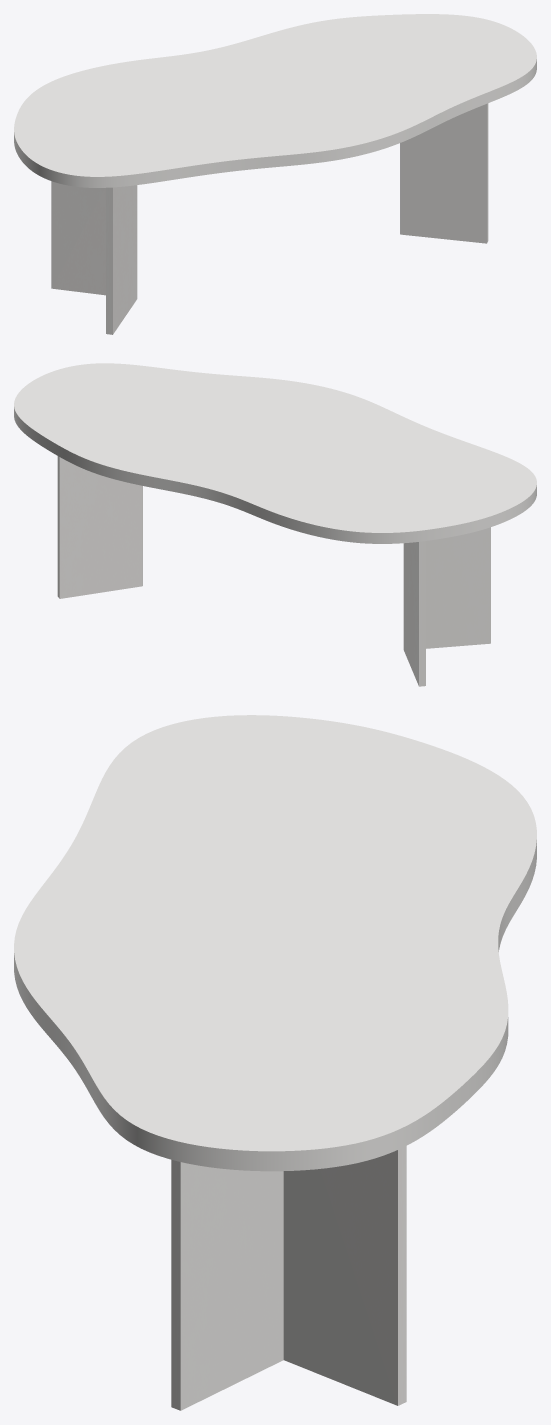
The model's file is purewhite_toplast_standard_valleyv.glb.
3 renders of one model, top to bottom at view 1: azimuth 30°, elevation 25°; view 2: azimuth 150°, elevation 25°; view 3: azimuth 270°, elevation 25°, orthographic. The views are drawn at different scales.
Visible parts, largest first — view 1: standard_toplast, valleyv; view 2: standard_toplast, valleyv; view 3: standard_toplast, valleyv.
Part boxes in pixels (box(x1,y1,x2,y2)): standard_toplast: box(14, 14, 536, 187); valleyv: box(51, 103, 488, 334); standard_toplast: box(14, 363, 536, 543); valleyv: box(57, 456, 490, 686); standard_toplast: box(14, 715, 536, 1171); valleyv: box(171, 1146, 406, 1410).
Bounding box in the file's own units: 7.5 × 2.5 × 3.8.
1 material, 1 textured.
